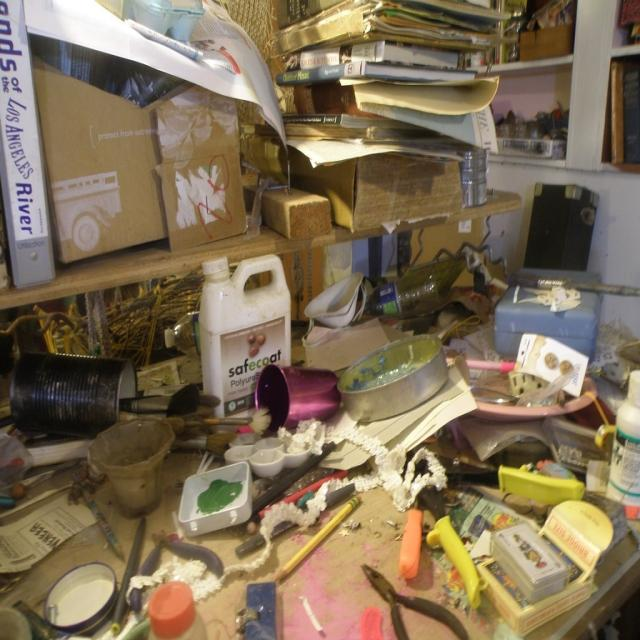Plastics: (384, 498, 611, 626), (196, 232, 305, 371), (370, 231, 492, 322), (131, 575, 215, 640)
can: (264, 328, 458, 431), (8, 341, 141, 452), (28, 547, 123, 640)
